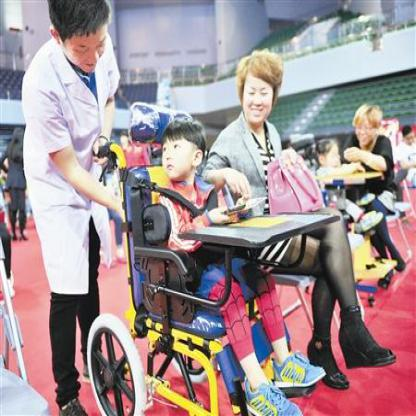wheelchair: (79, 101, 333, 415)
